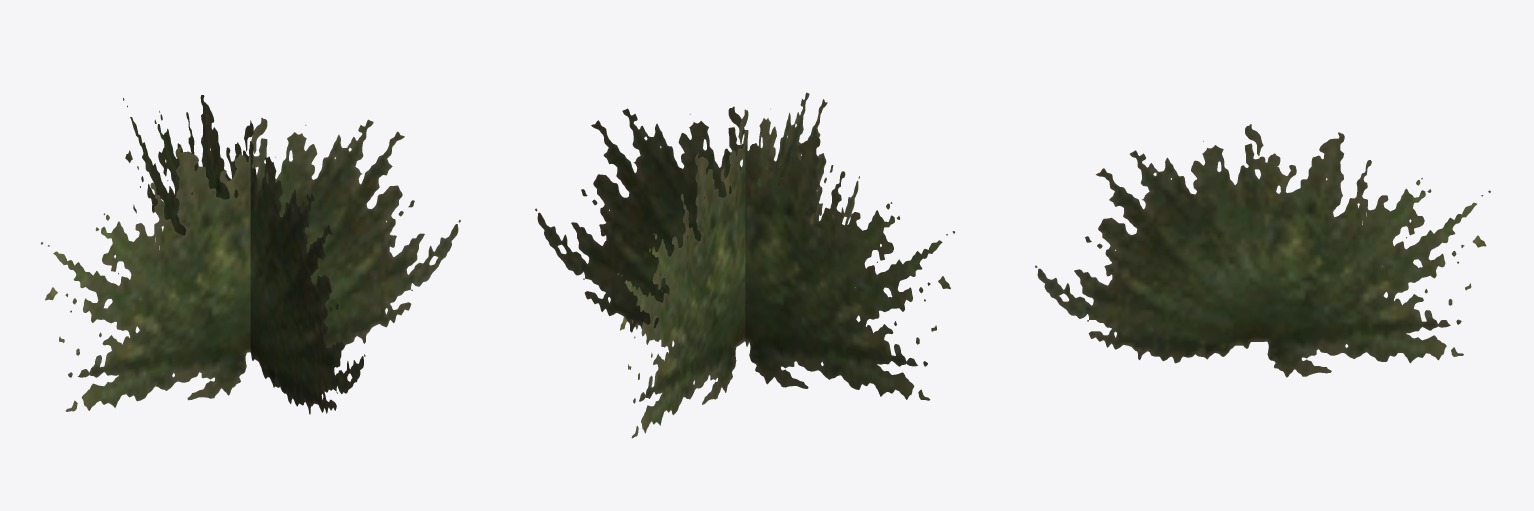
The model's file is shrb_arid_green_a2_l1.fbx.
The picture shows the model from 3 angles, left to right: view 1: azimuth 30°, elevation 25°; view 2: azimuth 150°, elevation 25°; view 3: azimuth 270°, elevation 25°; orthographic projection. The views are drawn at different scales.
Visible parts, largest first — view 1: mesh_node; view 2: mesh_node; view 3: mesh_node.
Boxes of the visible parts, bbox=[...] form: mesh_node: bbox=[41, 95, 460, 414]; mesh_node: bbox=[535, 92, 954, 438]; mesh_node: bbox=[1035, 124, 1490, 377].
Size of the model in its own units: 2.91 by 1.68 by 2.91.
Materials: 1 (1 with a texture image).
